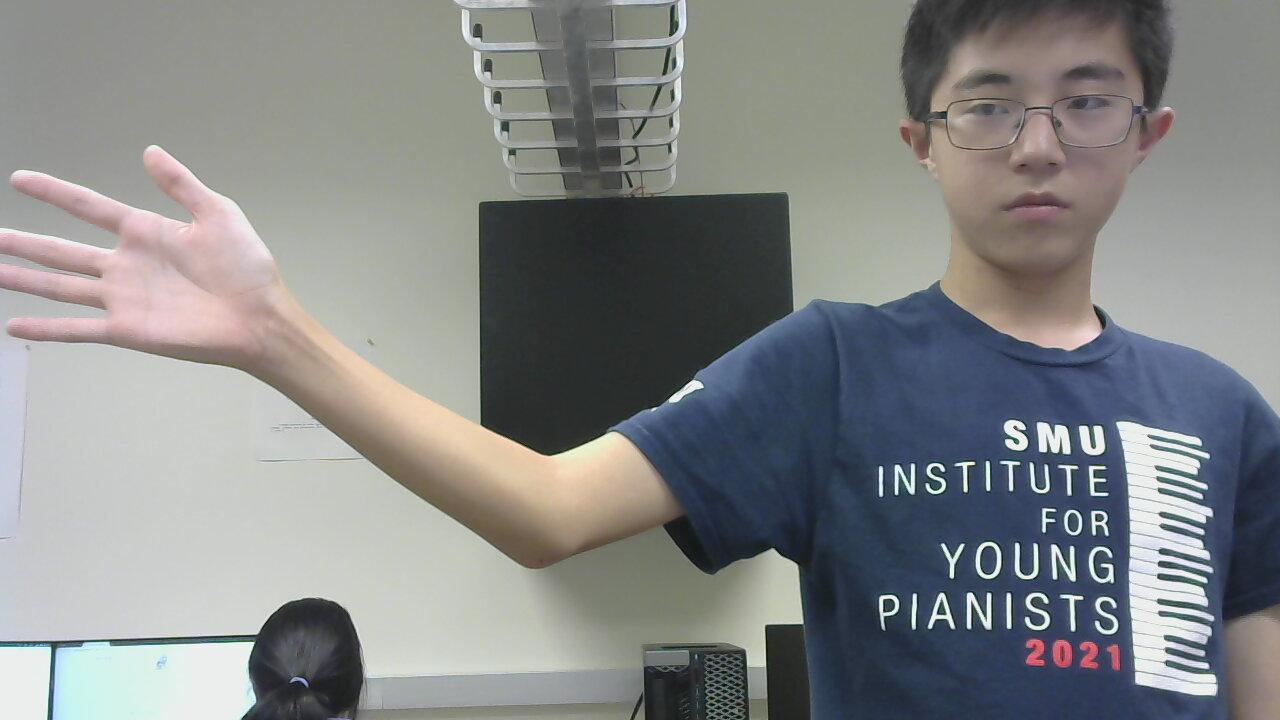hands: (8, 144, 312, 398)
